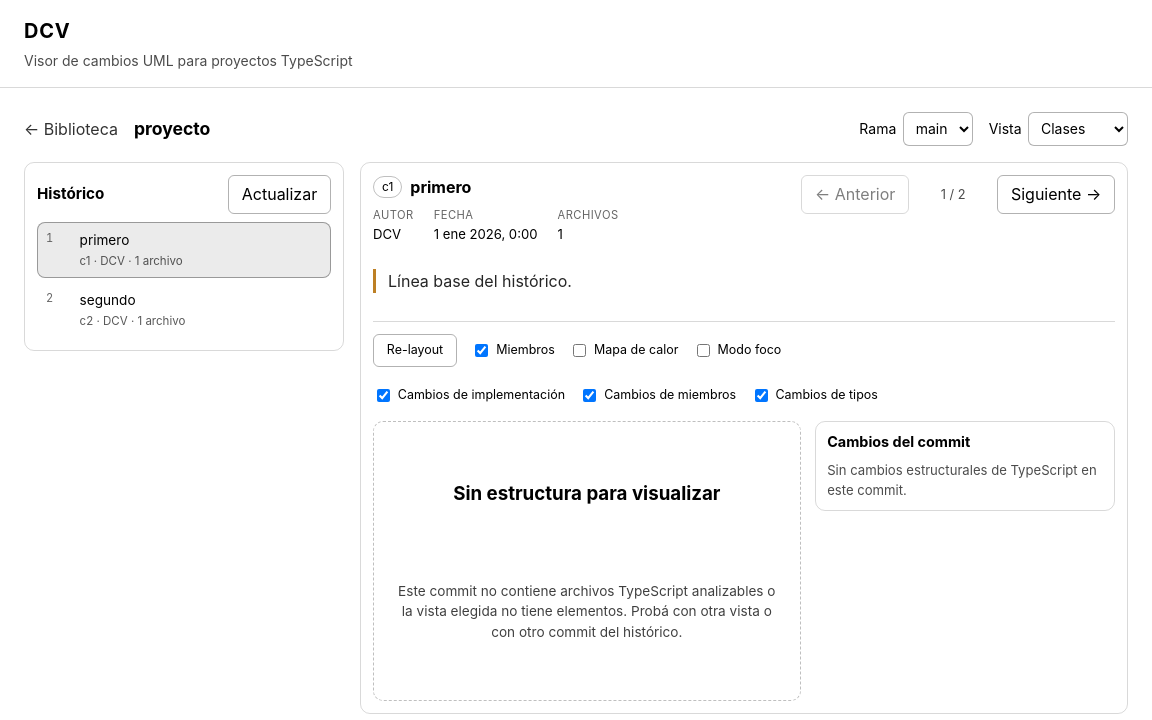
CommitPlayer › actualiza el histórico conservando la selección existente
This screenshot has width=1152, height=720.
Expected: the heading "primero" is shown, [410,175,471,199]
Click the button "Actualizar".
click(280, 194)  # box [228,175,331,214]
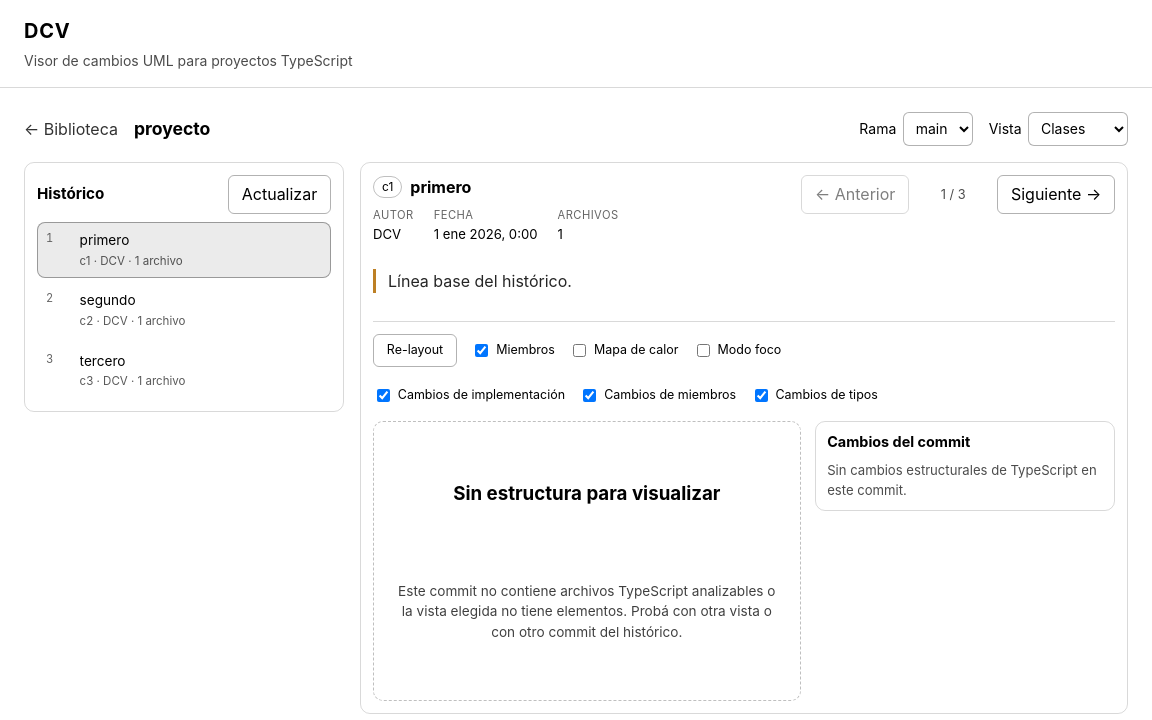
Expected: the heading "primero" is shown, [410,175,471,199]
Expected: the button "3 tercero c3 · DCV · 1 archivo" is shown, [37,342,331,399]
